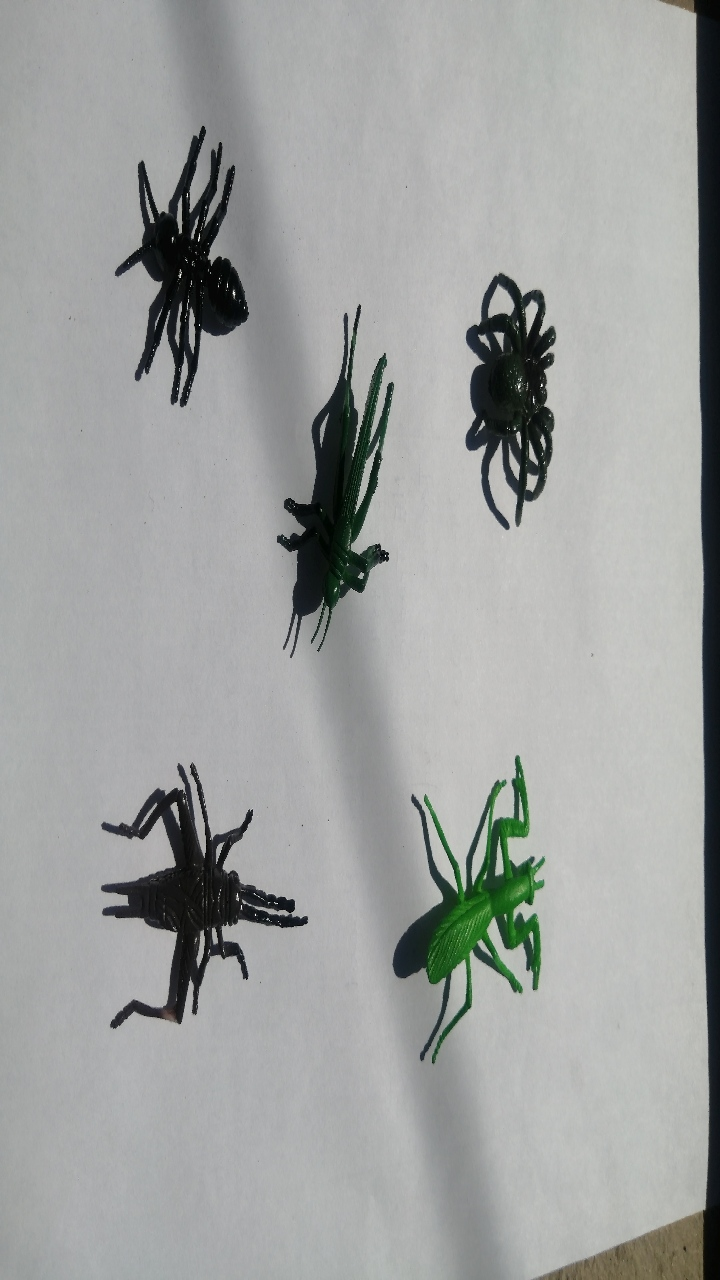intruso: (64, 748, 329, 1075), (383, 745, 586, 1080), (243, 303, 437, 648), (69, 103, 274, 402), (438, 248, 588, 528)
